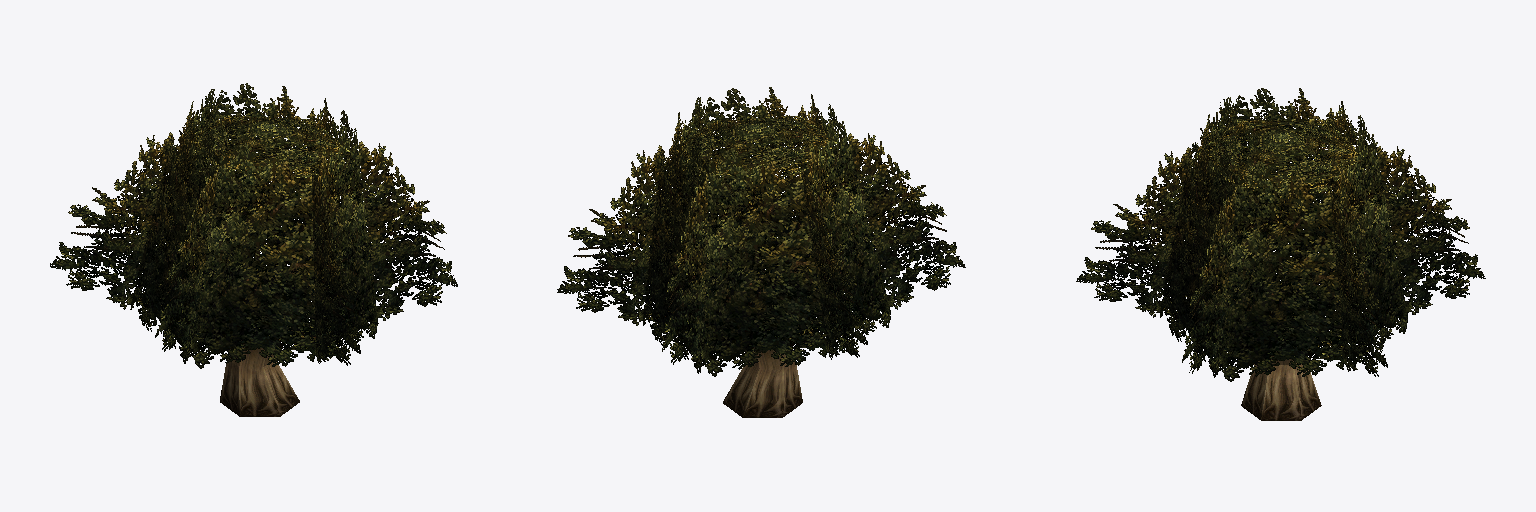
3 renders of one model, left to right at view 1: azimuth 30°, elevation 25°; view 2: azimuth 150°, elevation 25°; view 3: azimuth 270°, elevation 25°, orthographic.
Parts seen in each view (by area): view 1: object 1; view 2: object 1; view 3: object 1.
Boxes of the visible parts, box(x1,y1,x2,y2) form: object 1: box(50, 83, 457, 416); object 1: box(557, 87, 965, 417); object 1: box(1076, 88, 1485, 420).
Bounding box in the file's own units: 84.39 × 71.22 × 96.14.
Materials: 3 (3 with a texture image).